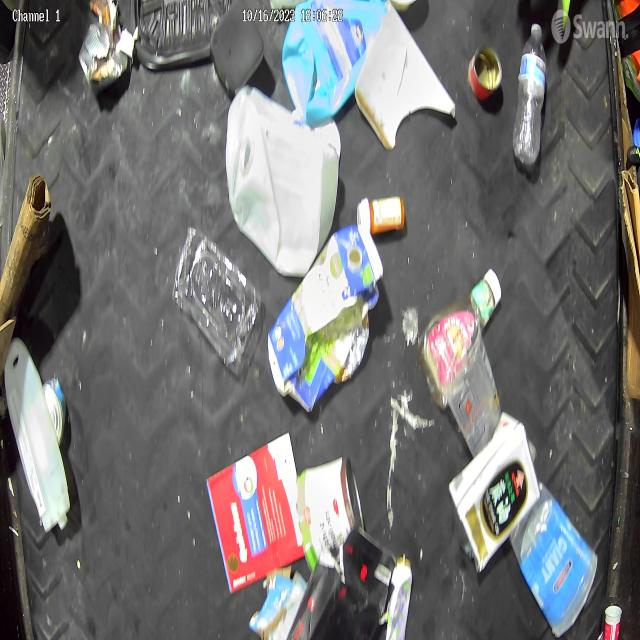can: (467, 46, 503, 98)
milk_jug: (225, 87, 332, 262)
non_white_jug: (280, 0, 380, 109)
plastic_bottle: (516, 21, 544, 159)
